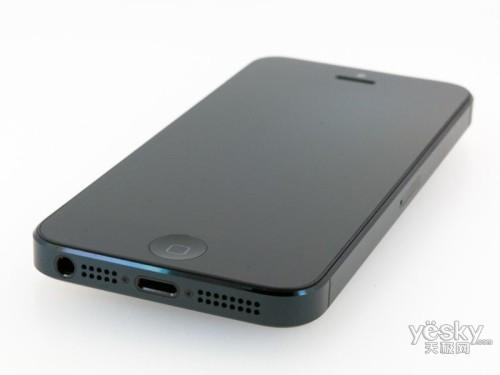phone: (28, 72, 480, 283)
